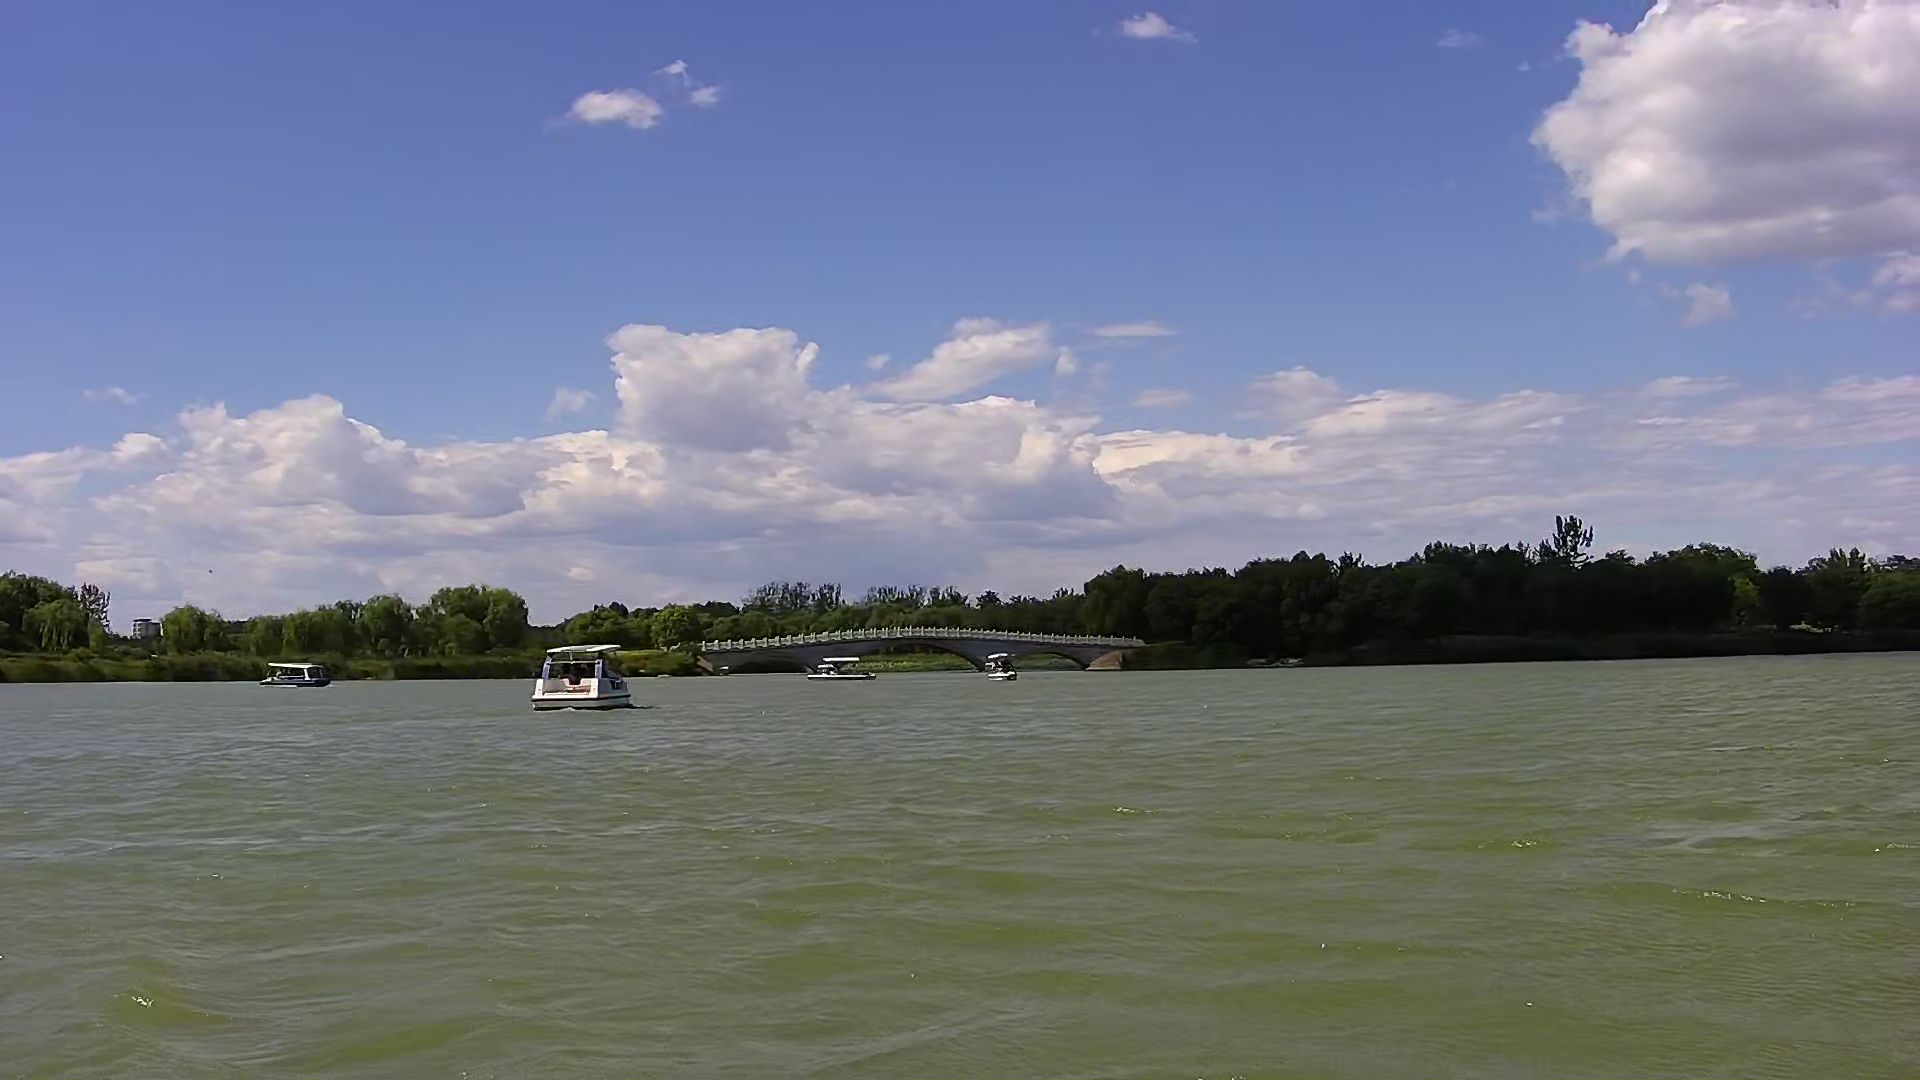boat: (524, 636, 642, 717), (266, 653, 338, 696), (808, 647, 881, 684), (975, 641, 1030, 687)
bridge: (694, 626, 1121, 674)
